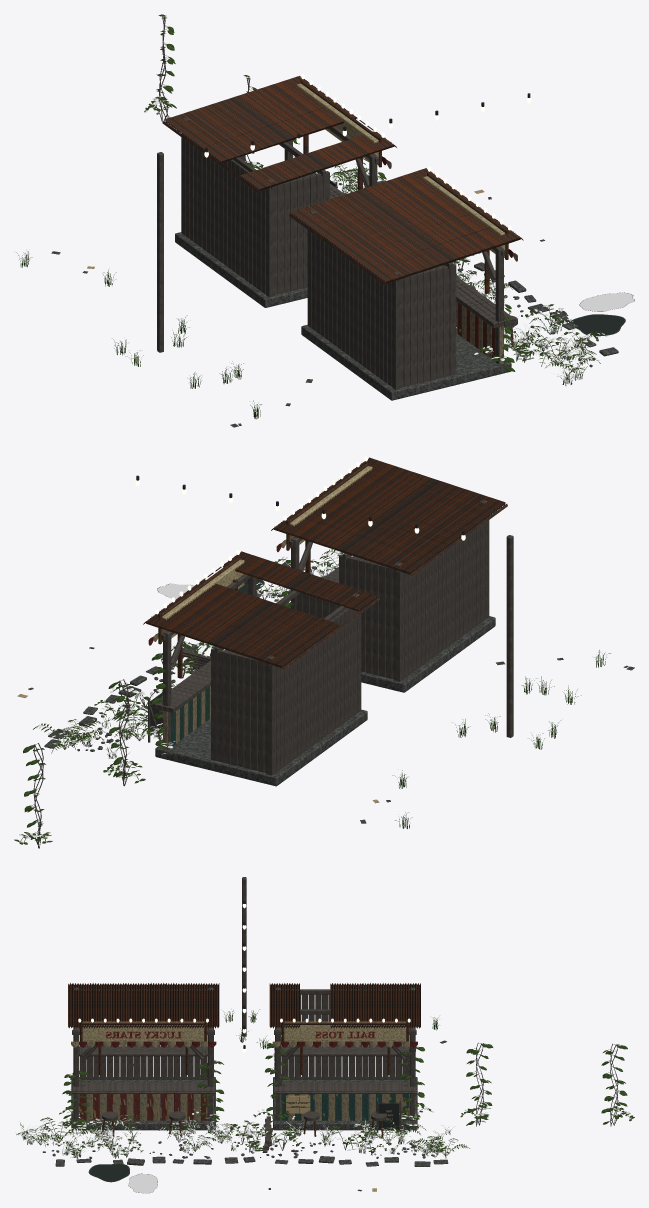
The model's file is SM_Env_Tile_m2_m1.fbx.
3 views of the same model, one above another, from view 1: azimuth 30°, elevation 25°; view 2: azimuth 150°, elevation 25°; view 3: azimuth 270°, elevation 25° (orthographic). The views are drawn at different scales.
Parts seen in each view (by area): view 1: SM_Env_Tile_m2_m1; view 2: SM_Env_Tile_m2_m1; view 3: SM_Env_Tile_m2_m1.
Part boxes in pixels (left/top/right/bottom): SM_Env_Tile_m2_m1: left=16, top=14, right=634, bottom=427; SM_Env_Tile_m2_m1: left=14, top=456, right=634, bottom=848; SM_Env_Tile_m2_m1: left=16, top=877, right=634, bottom=1193.
Size of what is drawn, in the model's own units: 1236 by 1847 by 520.
22 materials, 13 textured.
